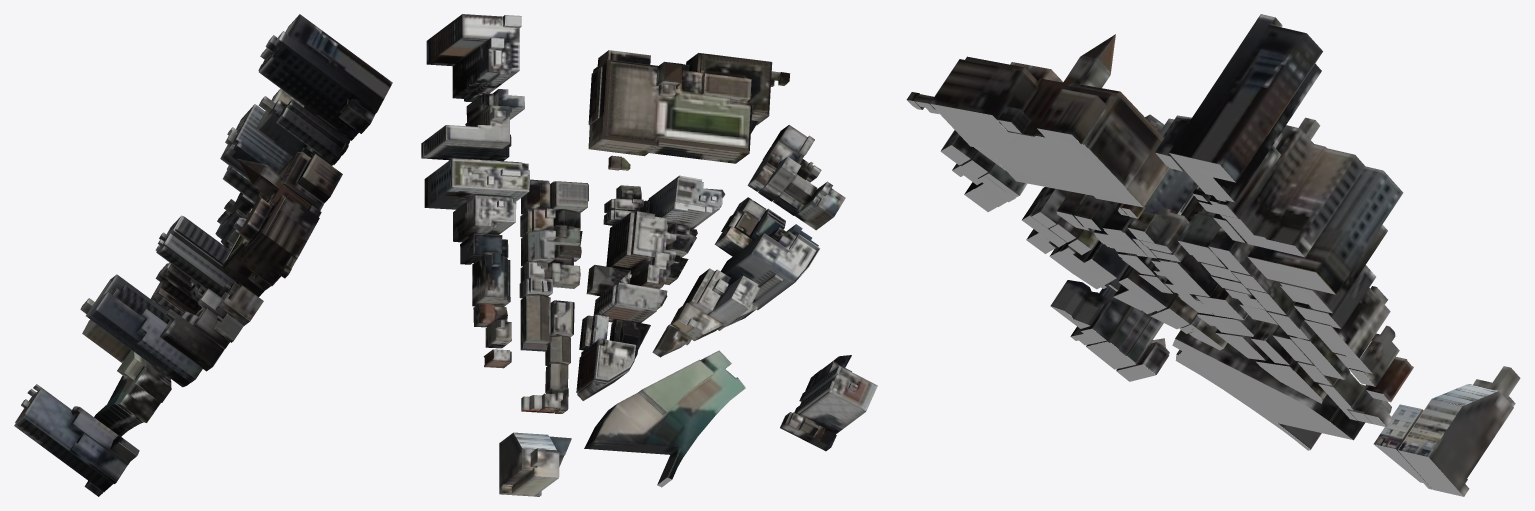
The picture shows the model from 3 angles, left to right: view 1: azimuth 30°, elevation 25°; view 2: azimuth 150°, elevation 25°; view 3: azimuth 270°, elevation 25°; orthographic projection. The views are drawn at different scales.
Size of the model in its own units: 172 by 162 by 166.
5 materials, 3 textured.
